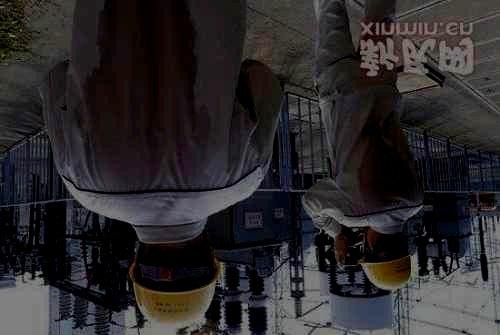helmet: (128, 241, 221, 326), (358, 227, 412, 290)
